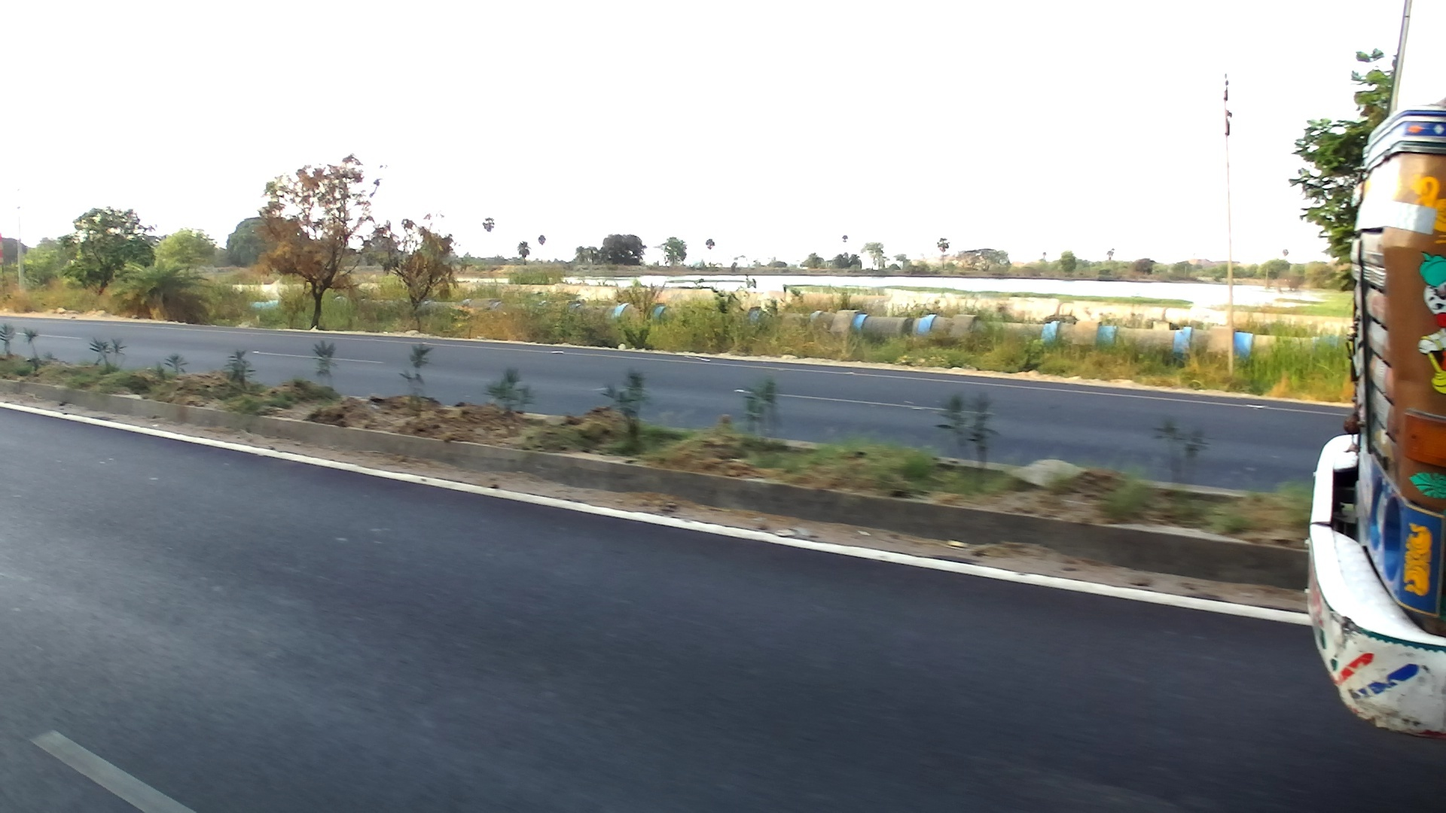vehicle fallback: (1305, 1, 1446, 744)
